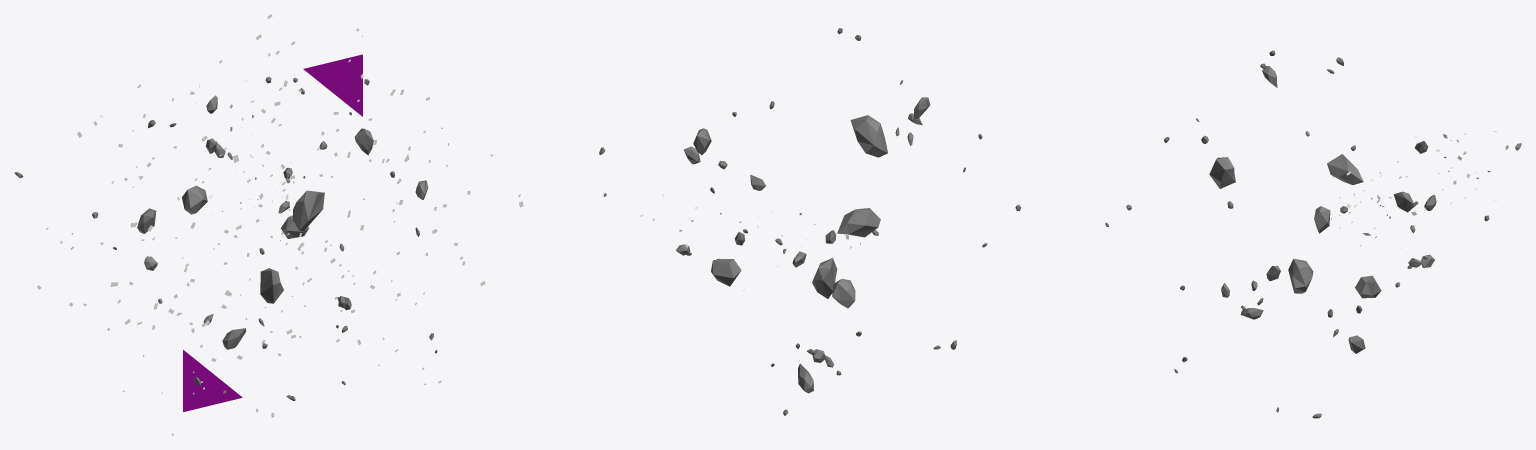
3 renders of one model, left to right at view 1: azimuth 30°, elevation 25°; view 2: azimuth 150°, elevation 25°; view 3: azimuth 270°, elevation 25°, orthographic. The views are drawn at different scales.
Parts seen in each view (by area): view 1: Group[4], Group[0], Group[1], Group[3], Group[5], Group[7]; view 2: Group[4], Group[5]; view 3: Group[4], Group[5], Group[6], Group[2].
Part boxes in pixels (x1,y1,x2,y2): Group[4]: [137, 95, 373, 349]; Group[0]: [303, 54, 362, 116]; Group[1]: [183, 350, 242, 412]; Group[3]: [37, 14, 485, 417]; Group[5]: [14, 76, 433, 400]; Group[7]: [46, 28, 523, 435]; Group[4]: [693, 97, 930, 393]; Group[5]: [599, 35, 1020, 415]; Group[4]: [1209, 66, 1428, 353]; Group[5]: [1126, 50, 1521, 418]; Group[6]: [1105, 63, 1489, 412]; Group[2]: [1331, 131, 1508, 248].
Size of the model in its own units: 0.5787 by 0.4609 by 0.4879.
